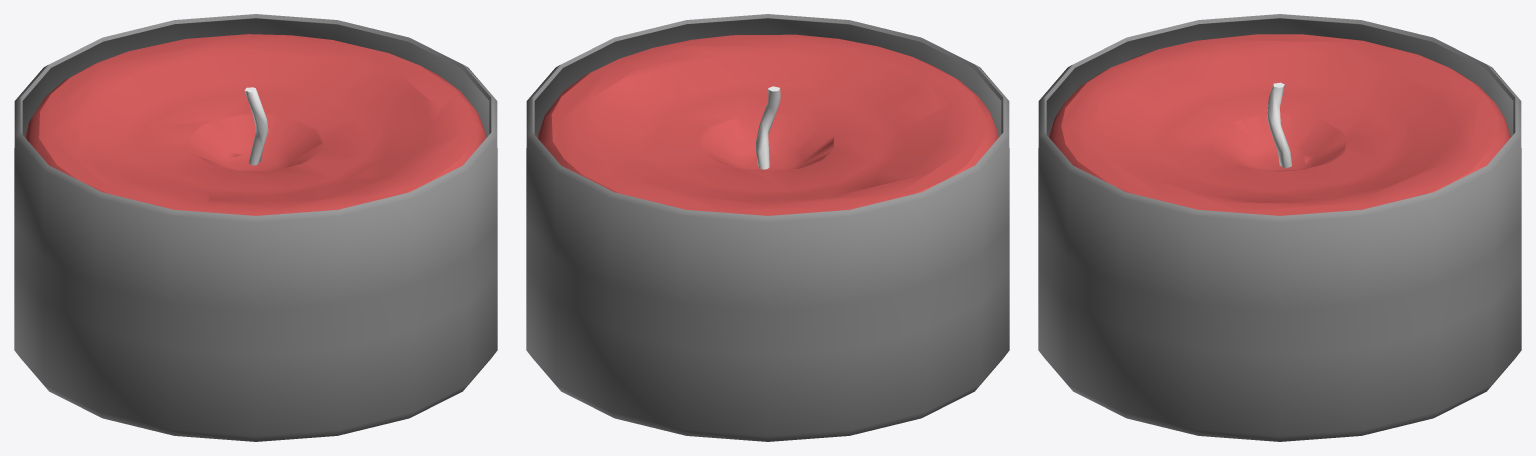
Rendered from Candle 1.FBX.
3 views of the same model, side by side, from view 1: azimuth 30°, elevation 25°; view 2: azimuth 150°, elevation 25°; view 3: azimuth 270°, elevation 25° (orthographic).
Parts seen in each view (by area): view 1: candle 1; view 2: candle 1; view 3: candle 1.
Part boxes in pixels (bbox=[...]): candle 1: bbox=[14, 14, 497, 441]; candle 1: bbox=[526, 14, 1009, 441]; candle 1: bbox=[1038, 14, 1521, 441].
Bounding box in the file's own units: 7.66 × 4.36 × 7.54.
Materials: 2 (1 with a texture image).
